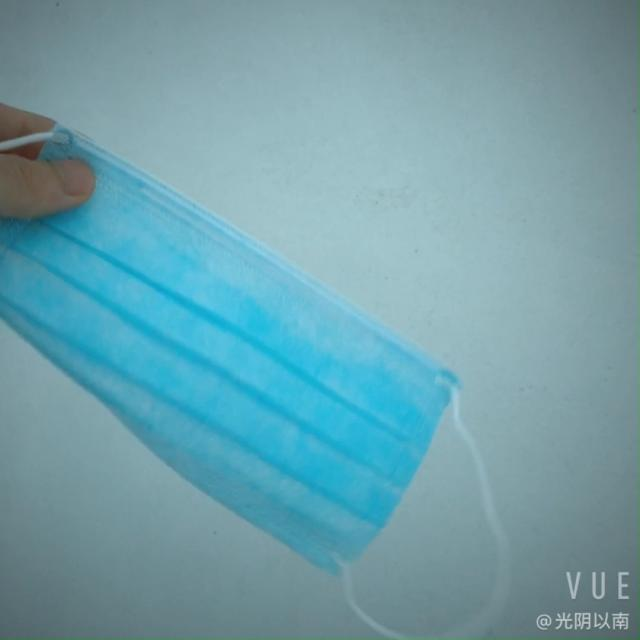non-organic waste: (11, 81, 450, 570)
